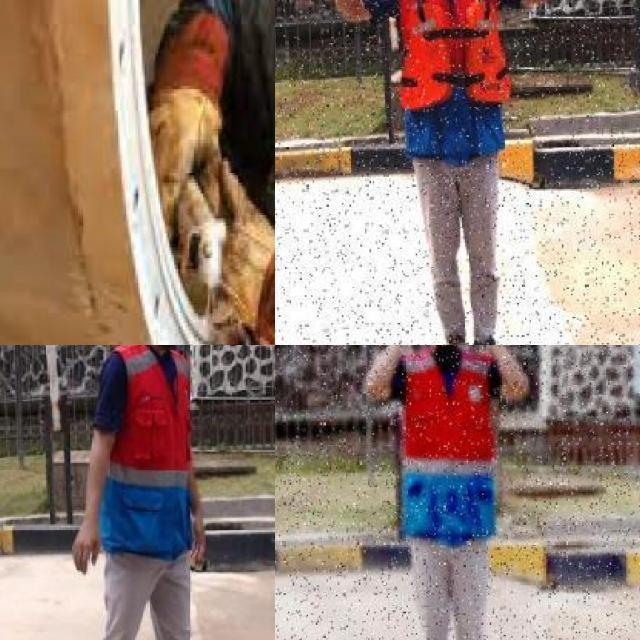apron: (147, 13, 226, 215), (208, 154, 275, 345)
